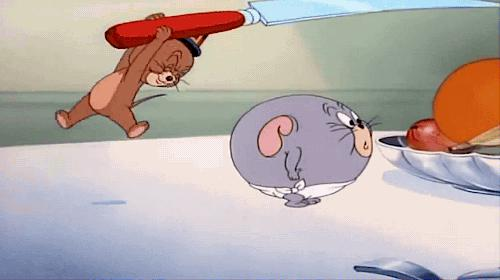jerry: (53, 12, 199, 139)
